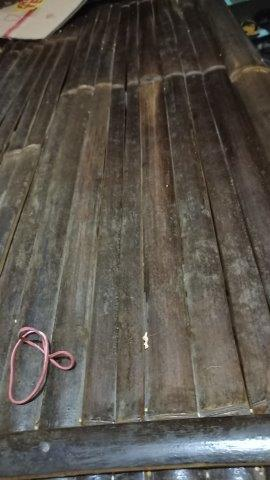karet: (9, 327, 74, 405)
